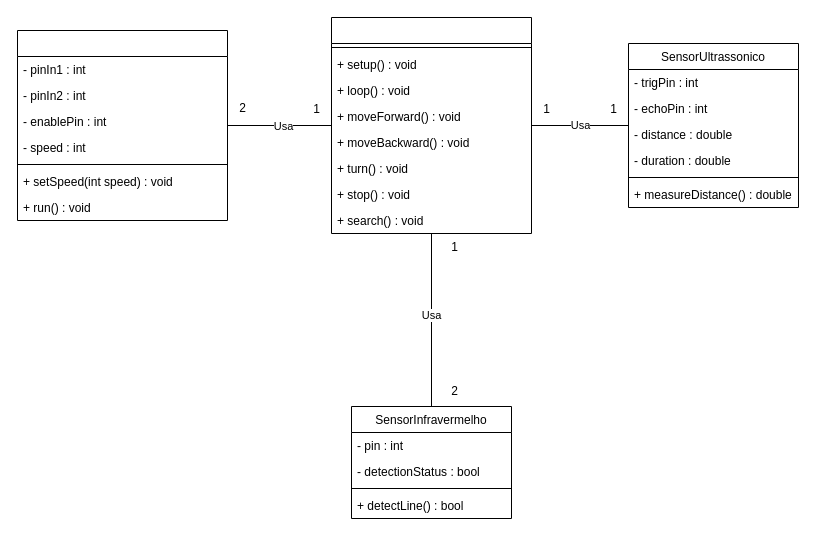
Some shapes in this 816 by 539 pixel diagram are drawn without their labels. Each missing label, with the box of its shape:
ControladorMovimento: (330, 16, 532, 234)
Motor: (16, 30, 228, 220)
